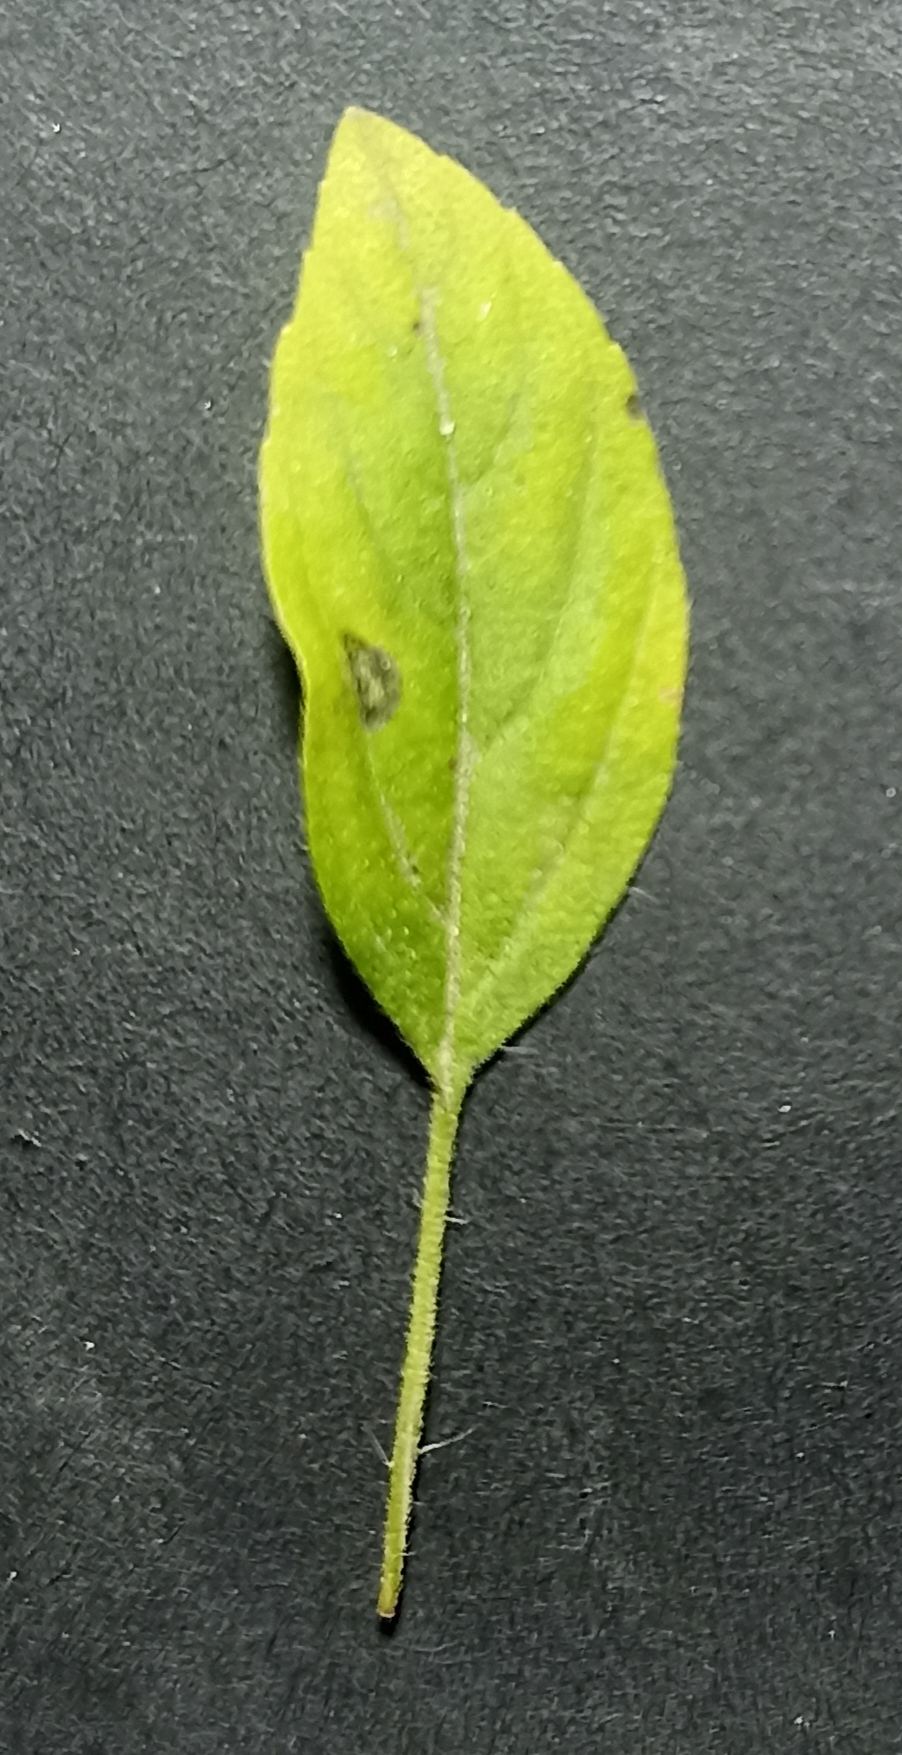Unhealthy: (235, 83, 700, 1045)
